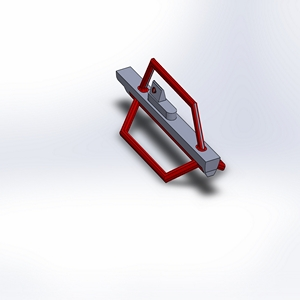submarine: (87, 53, 249, 202)
